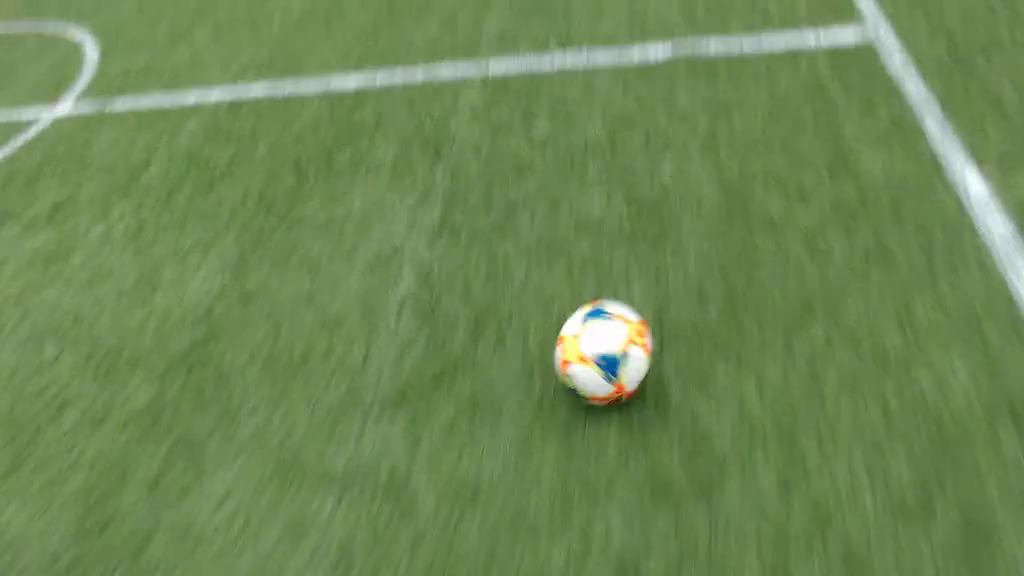ball: (556, 298, 653, 403)
